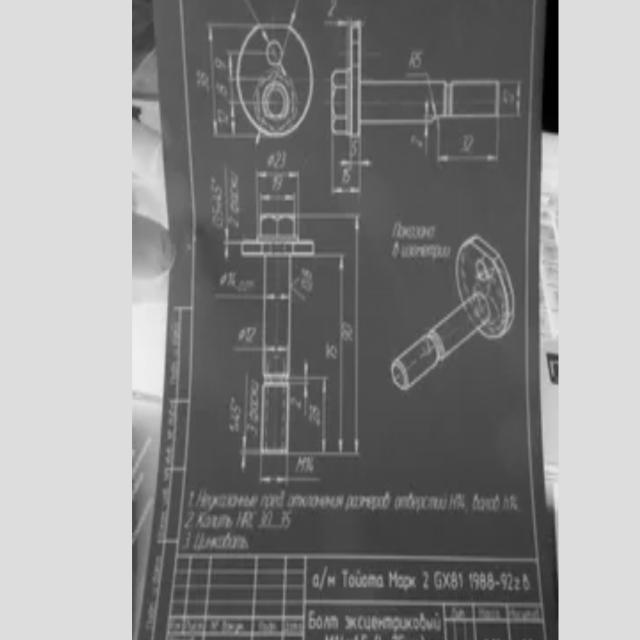marking_line: (293, 259, 362, 457), (316, 213, 363, 457), (315, 251, 346, 458), (207, 20, 240, 141), (289, 374, 328, 457), (437, 118, 498, 164), (330, 137, 364, 195), (254, 170, 299, 213), (259, 456, 320, 487), (239, 372, 258, 471), (301, 211, 363, 236), (224, 47, 238, 140), (291, 359, 309, 423), (339, 137, 372, 171), (500, 80, 523, 119), (260, 194, 297, 214), (221, 226, 240, 260), (224, 49, 236, 85), (227, 99, 237, 139), (323, 17, 349, 30), (267, 290, 287, 303)
numeric: (409, 48, 417, 72), (274, 150, 282, 168), (328, 0, 336, 17), (340, 167, 347, 184), (416, 51, 423, 67), (281, 151, 287, 168), (345, 169, 350, 184)
special_symbol: (265, 154, 274, 169)
